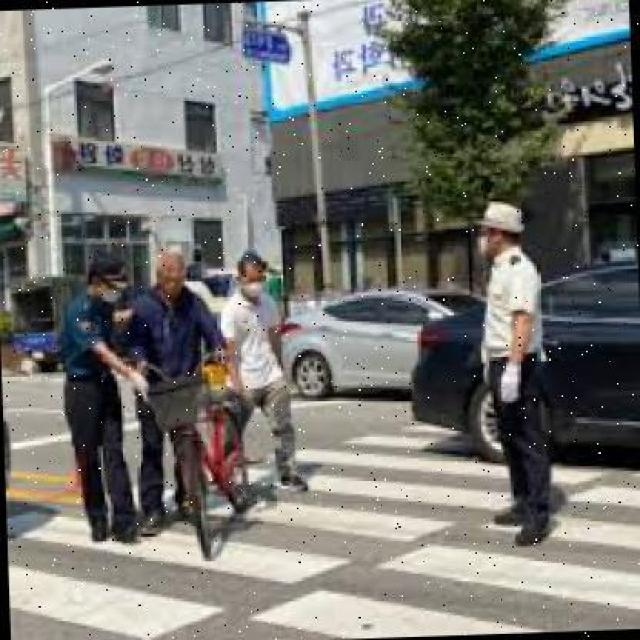Person: (117, 248, 229, 532), (55, 253, 150, 541), (475, 202, 551, 546), (216, 252, 309, 498)
